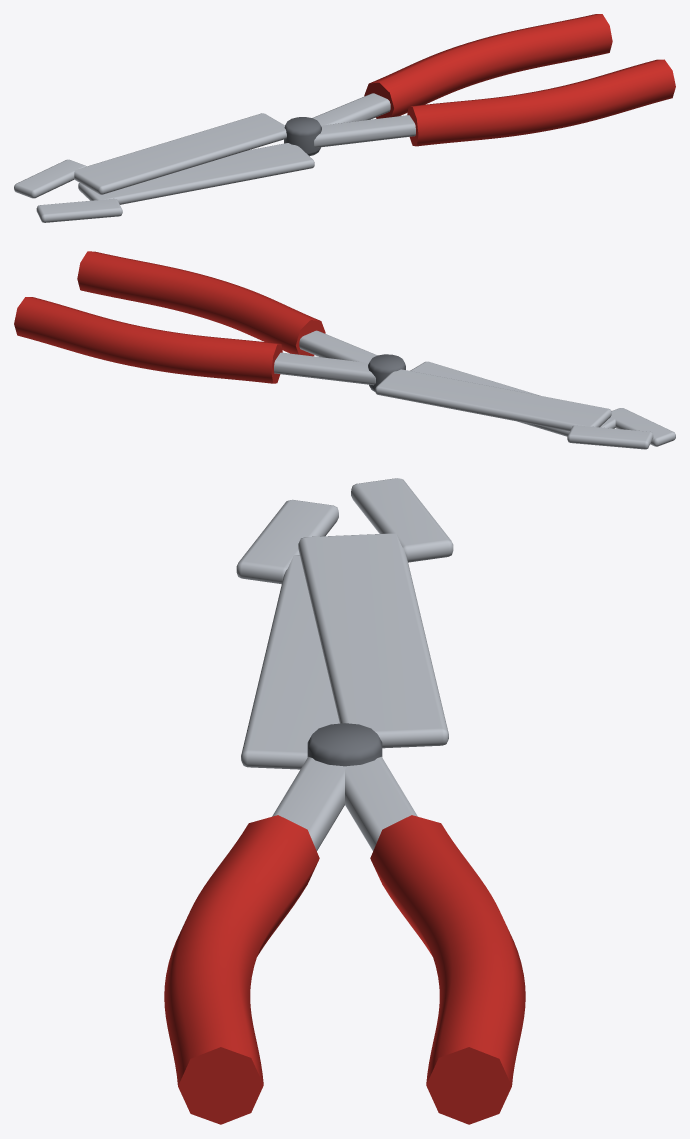
Rendered from sekator.glb.
3 views of the same model, one above another, from view 1: azimuth 30°, elevation 25°; view 2: azimuth 150°, elevation 25°; view 3: azimuth 270°, elevation 25° (orthographic). The views are drawn at different scales.
Parts seen in each view (by area): view 1: Arm0, Arm1, nit; view 2: Arm0, Arm1, nit; view 3: Arm0, Arm1, nit.
Part boxes in pixels (x1,y1,x2,y2): Arm0: [14, 59, 675, 198]; Arm1: [36, 14, 612, 222]; nit: [284, 117, 321, 156]; Arm0: [77, 251, 653, 449]; Arm1: [14, 297, 675, 446]; nit: [368, 354, 405, 391]; Arm0: [164, 478, 453, 1124]; Arm1: [236, 499, 525, 1124]; nit: [307, 723, 382, 766].
Size of the model in its own units: 0.2933 by 0.018 by 0.0757.
